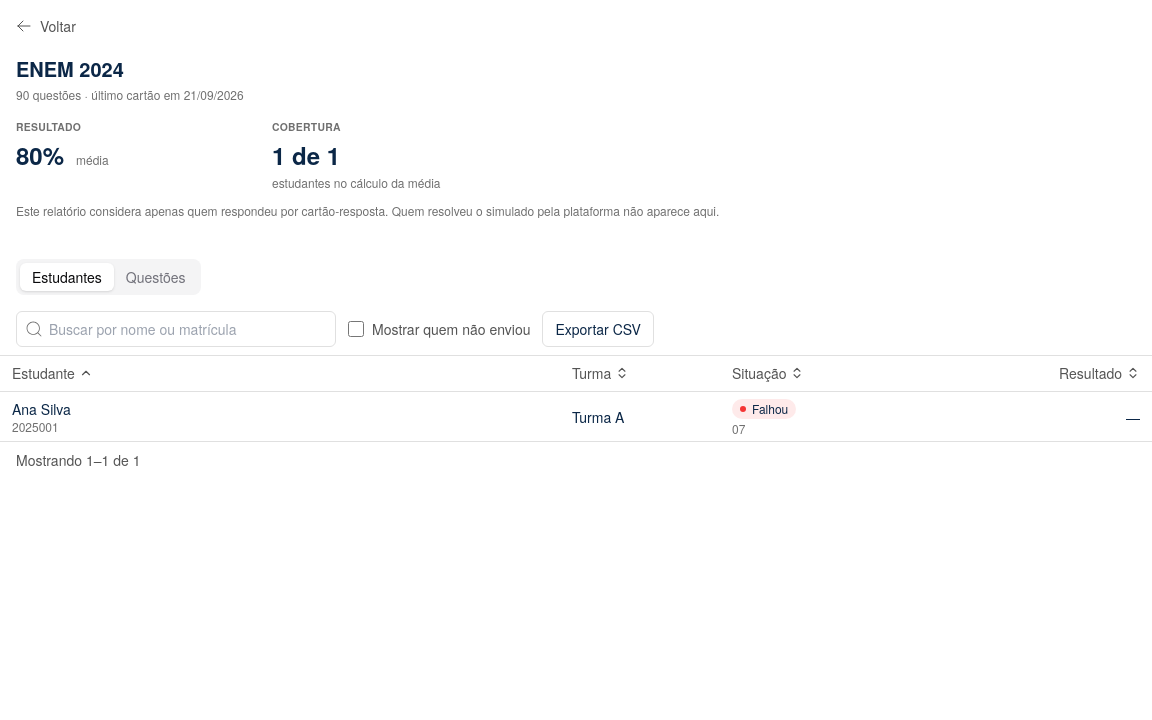
it: RelatorioSimulado › ⚠️ o historicoId da linha chega ao modal — é por ele que se reprocessa
Click the text "Ana Silva": click(41, 409) [12, 399, 71, 419]
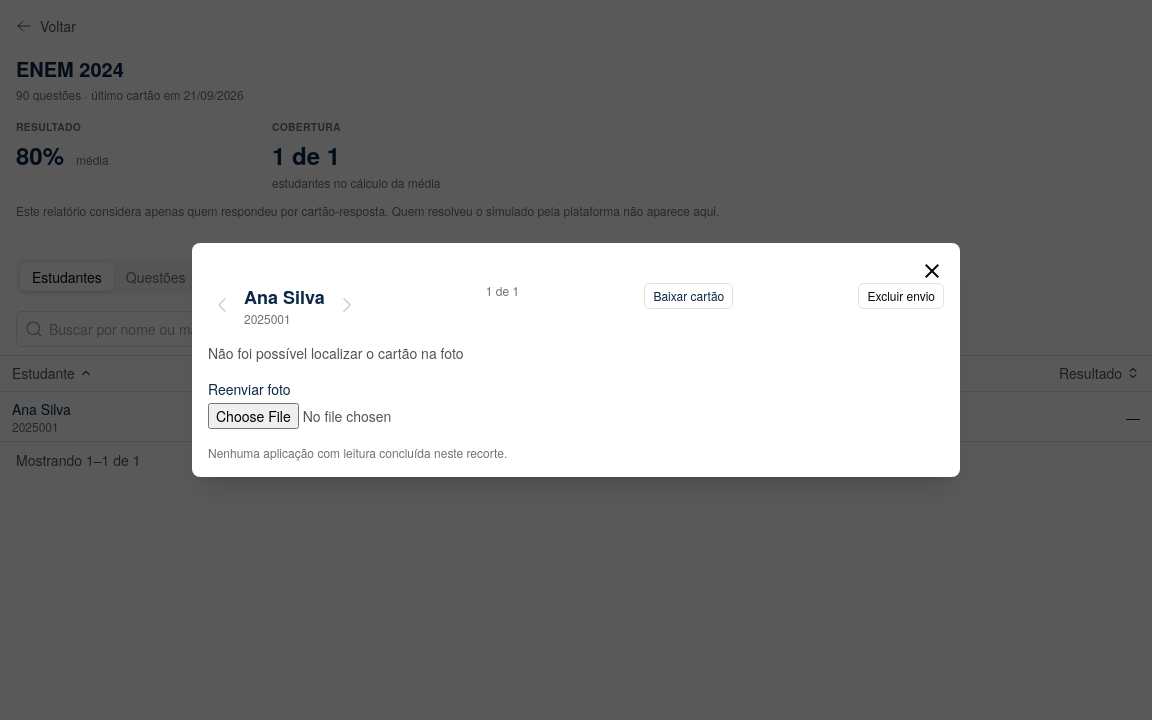
Now the text "Não foi possível localizar o cartão na foto" is shown, box [208, 343, 464, 363]
Now the file field labelled "Reenviar foto" is shown, box [208, 403, 473, 429]
